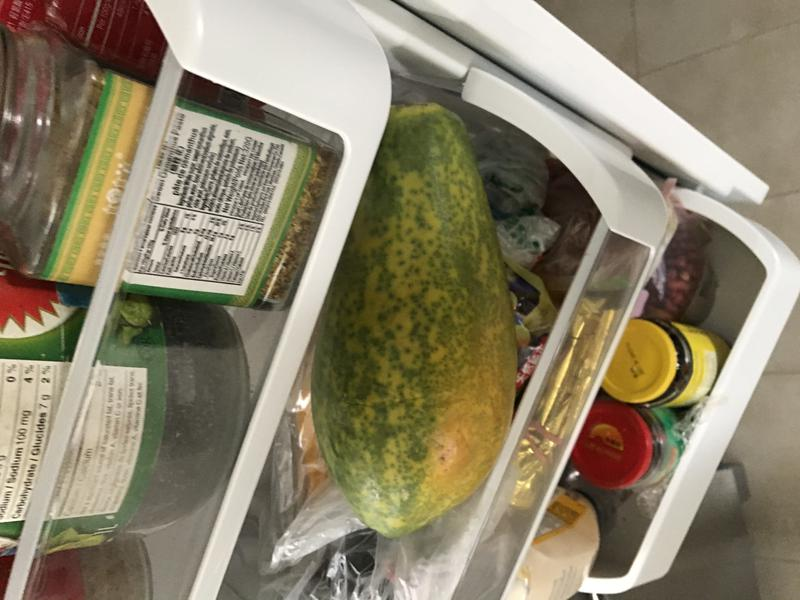papaya: (305, 95, 524, 547)
